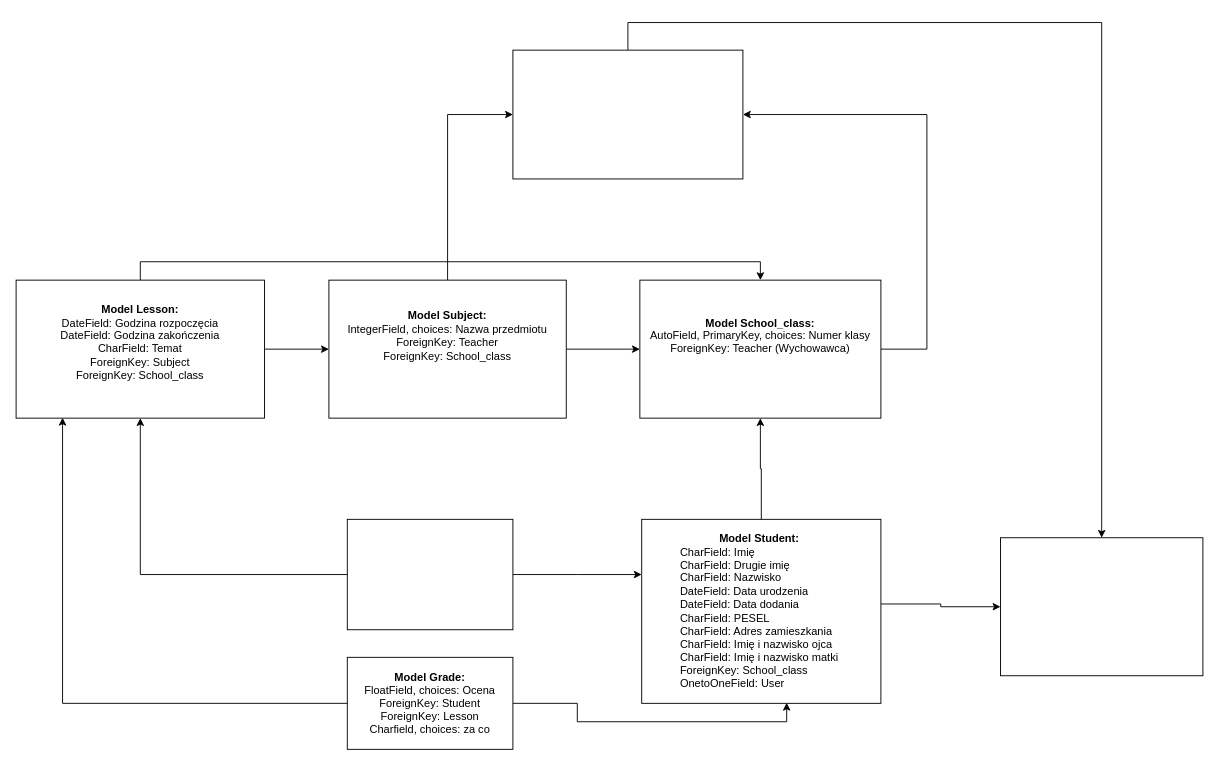
Image size: 1219x765. Some labels were removed from this diagram. The shapes that lost their labels are listed below. From the top down, each one's box as (x1, y1, x2, y2) in pixels, then its label:
(512, 49, 743, 179): Model Teacher: Charfield: Imię Charfield: Nazwisko OneToOneField: User
(346, 518, 513, 630): Model Attendance: BooleanField: Obecność ForeignKey: Lesson ForeignKey: Student
(1000, 537, 1203, 676): Model User:
